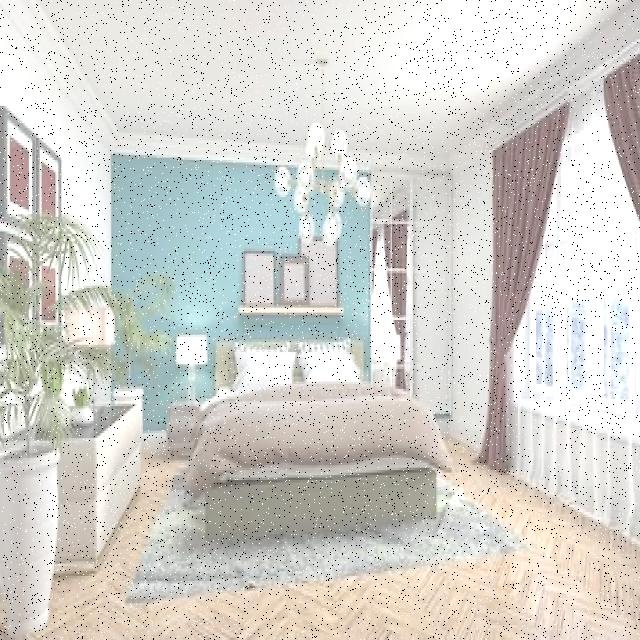bed: (207, 338, 445, 527)
